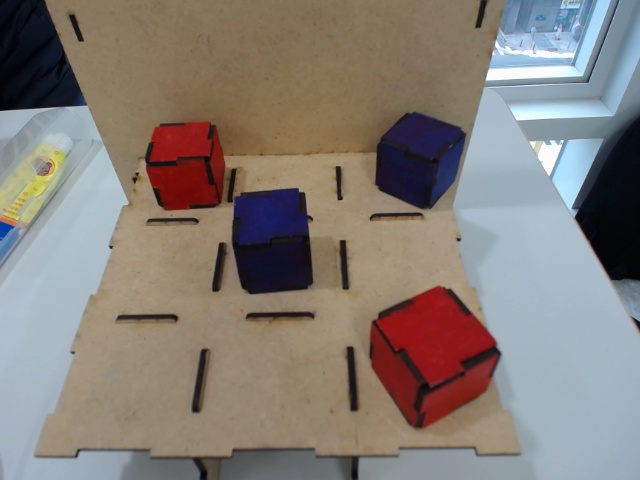blue: (374, 112, 465, 208), (233, 186, 314, 293)
red: (370, 284, 501, 430), (145, 118, 226, 211)
